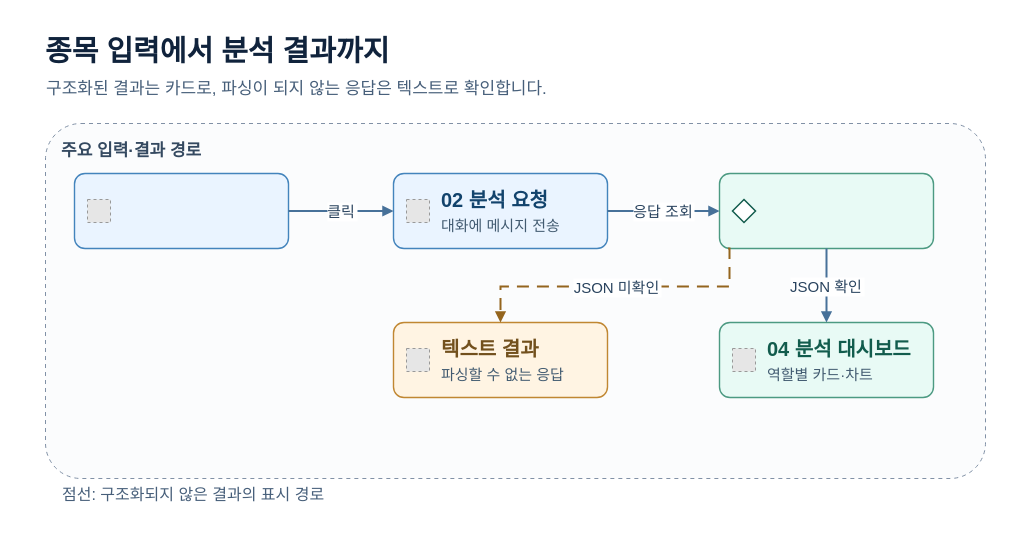
This 1034x539 diagram has some shape labels left out. Grey dashed boxes stand in for pictures. Here are the shapes that lost their labels. From the top down, the box of each, then its label:
(73, 172, 289, 249): 01 종목 입력 티커 또는 기업명
(718, 172, 934, 249): 03 결과 수신 분석 JSON 식별
